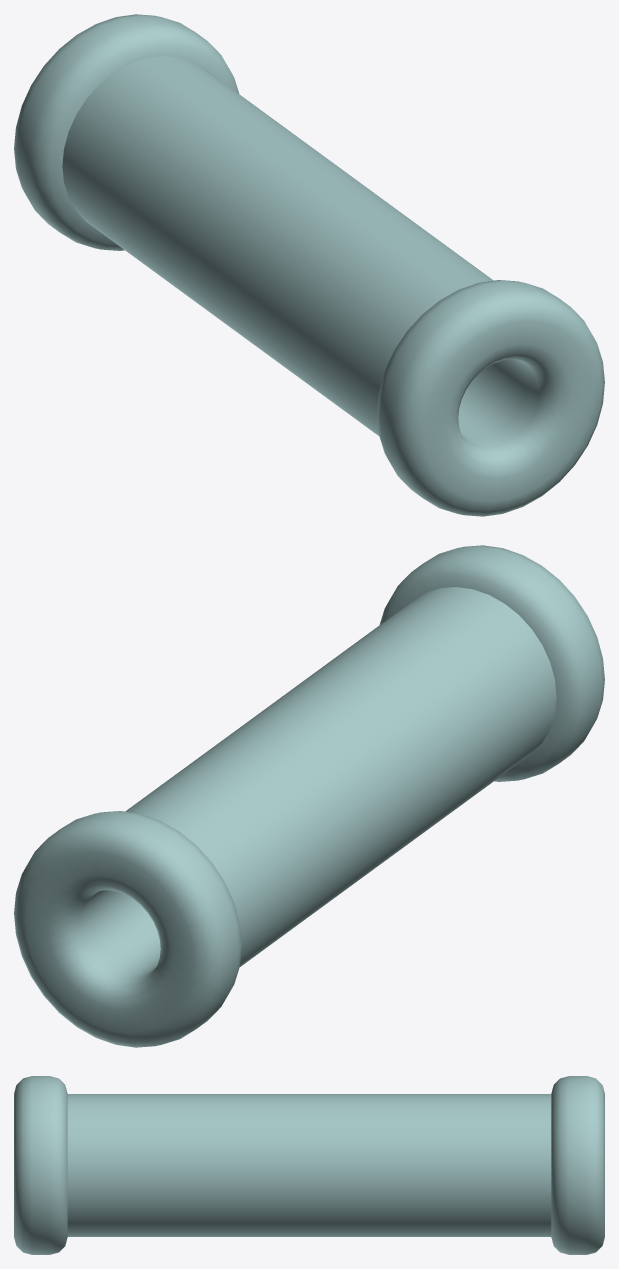
The model's file is LastLuna_Model_Station_Pipe.fbx.
The picture shows the model from 3 angles, top to bottom: view 1: azimuth 30°, elevation 25°; view 2: azimuth 150°, elevation 25°; view 3: azimuth 270°, elevation 25°; orthographic projection. The views are drawn at different scales.
Parts seen in each view (by area): view 1: Pipe001; view 2: Pipe001; view 3: Pipe001.
Part boxes in pixels (x1,y1,x2,y2): Pipe001: (14, 14, 604, 516); Pipe001: (14, 545, 604, 1047); Pipe001: (14, 1076, 604, 1254).
Bounding box in the file's own units: 25 × 25 × 82.5.
